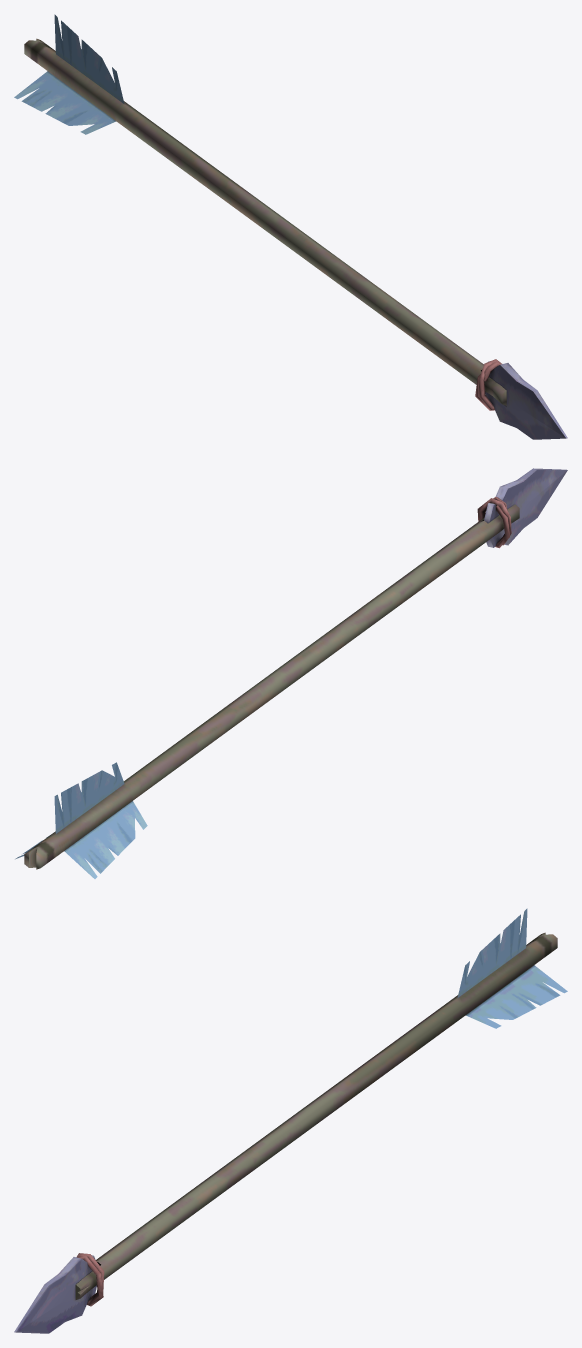
Rendered from weaponProjectile-Arrow1.glb.
The picture shows the model from 3 angles, top to bottom: view 1: azimuth 30°, elevation 25°; view 2: azimuth 150°, elevation 25°; view 3: azimuth 330°, elevation 25°; orthographic projection.
Visible parts, largest first — view 1: weapon-arrow1_export; view 2: weapon-arrow1_export; view 3: weapon-arrow1_export.
Part boxes in pixels (<box>): weapon-arrow1_export: <box>14,14,567,439</box>; weapon-arrow1_export: <box>15,468,567,878</box>; weapon-arrow1_export: <box>14,908,567,1333</box>.
Size of the model in its own units: 0.0637 by 0.0581 by 0.7277.
1 material, 1 textured.
